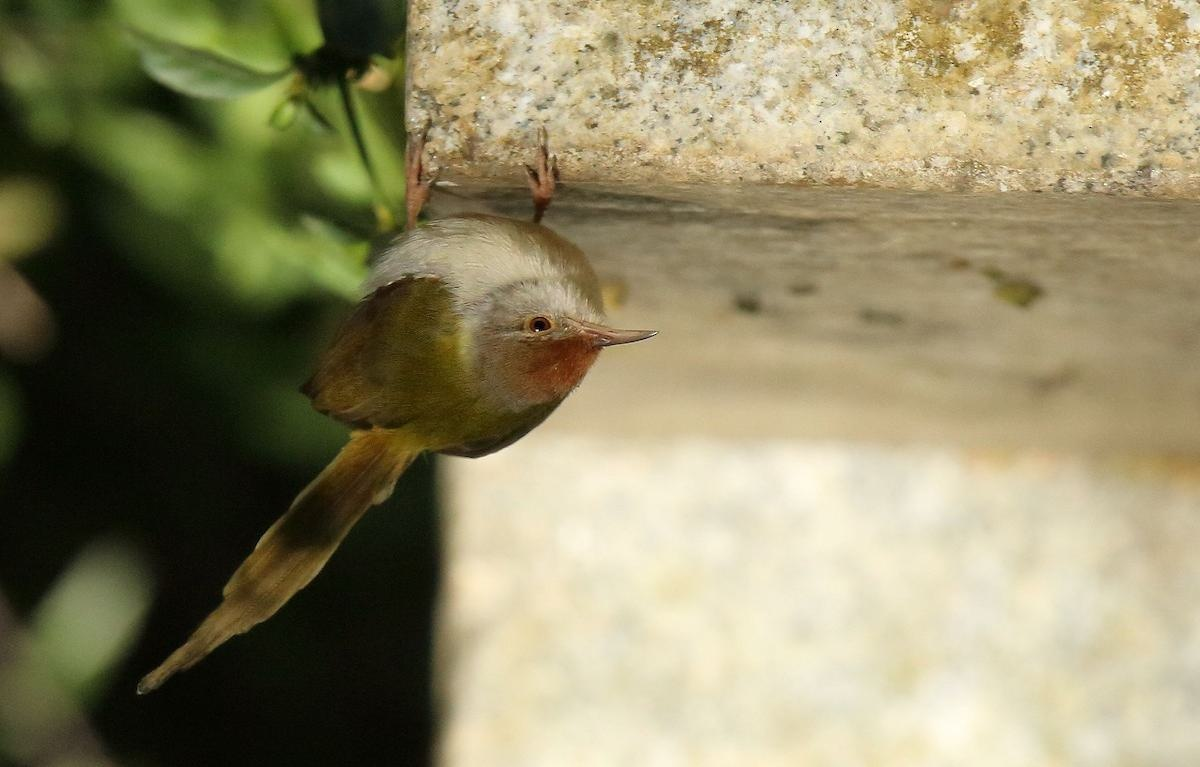tailorbird: (145, 130, 671, 678)
